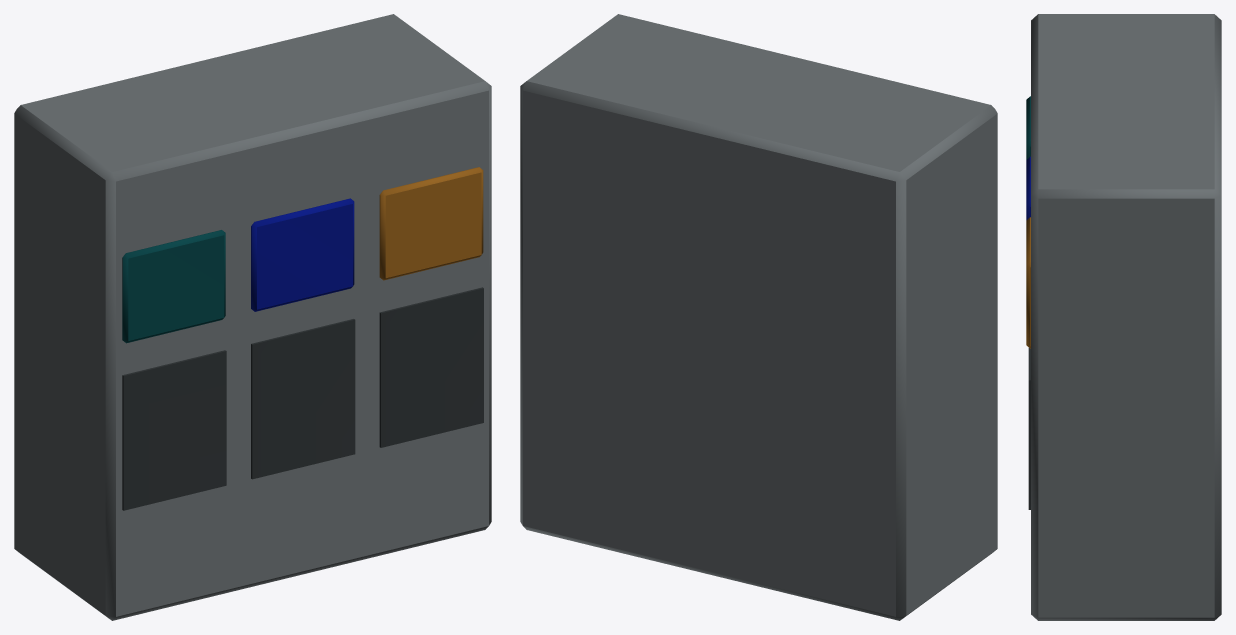
The model's file is ap-trash-bin.glb.
3 views of the same model, side by side, from view 1: azimuth 30°, elevation 25°; view 2: azimuth 150°, elevation 25°; view 3: azimuth 270°, elevation 25° (orthographic). The views are drawn at different scales.
Visible parts, largest first — view 1: body__steel, lids__lacquer; view 2: body__steel; view 3: body__steel, lids__lacquer.
Part boxes in pixels (box(x1,y1,x2,y2)): body__steel: box(14, 14, 491, 620); lids__lacquer: box(122, 167, 483, 343); body__steel: box(520, 14, 997, 620); body__steel: box(1028, 14, 1221, 620); lids__lacquer: box(1026, 96, 1030, 348).
Size of the model in its own units: 0.9 by 1 by 0.41.
